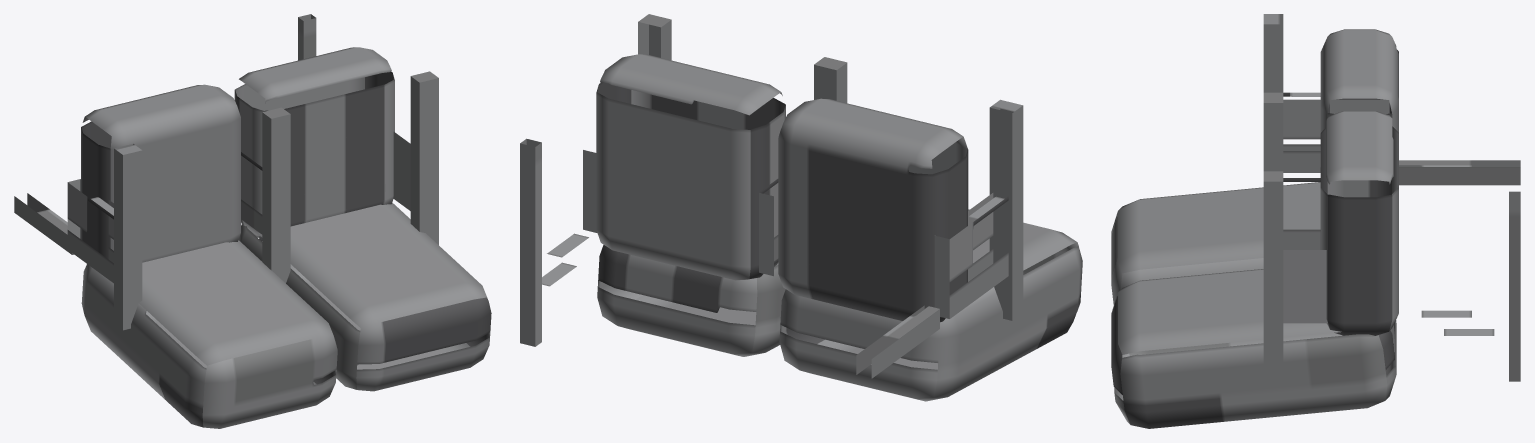
3 renders of one model, left to right at view 1: azimuth 30°, elevation 25°; view 2: azimuth 150°, elevation 25°; view 3: azimuth 270°, elevation 25°, orthographic. The views are drawn at different scales.
Bounding box in the file's own units: 0.9947 × 0.7284 × 1.03.
